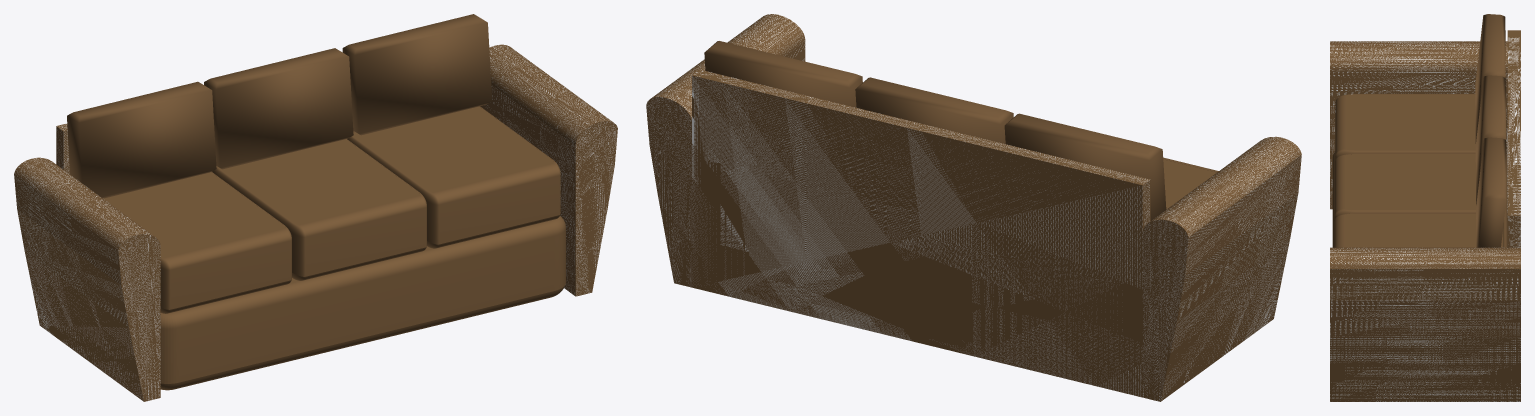
3 views of the same model, side by side, from view 1: azimuth 30°, elevation 25°; view 2: azimuth 150°, elevation 25°; view 3: azimuth 270°, elevation 25° (orthographic). The views are drawn at different scales.
Visible parts, largest first — view 1: RoundedBlock (×2), RoundedBlock_3 (×2), LeftArmRest, RightArmRest, group_1, group_3, group_2, SketchUp; view 2: SketchUp, LeftArmRest, RightArmRest, group_1, group_3, group_2, RoundedBlock; view 3: RightArmRest, RoundedBlock_3 (×2), RoundedBlock (×2), LeftArmRest, SketchUp, group_3, group_1, group_2.
Part boxes in pixels (x1,y1,x2,y2): RoundedBlock (×2): (103,172,565,390); RoundedBlock_3 (×2): (212,106,560,280); LeftArmRest: (14,157,160,401); RightArmRest: (480,44,617,296); group_1: (67,81,216,198); group_3: (342,14,492,135); group_2: (204,48,353,169); SketchUp: (56,123,69,173); SketchUp: (692,69,1150,397); LeftArmRest: (1142,136,1301,401); RightArmRest: (646,14,805,287); group_1: (1004,113,1166,220); group_3: (704,41,862,107); group_2: (855,77,1013,143); RoundedBlock: (1163,157,1218,209); RightArmRest: (1330,247,1520,401); RoundedBlock_3 (×2): (1334,154,1504,247); RoundedBlock (×2): (1332,94,1507,247); LeftArmRest: (1330,41,1507,209); SketchUp: (1507,30,1520,247); group_3: (1476,137,1506,247); group_1: (1475,14,1505,143); group_2: (1475,75,1505,204).
Bounding box in the file's own units: 93.6 × 33.86 × 39.04.
